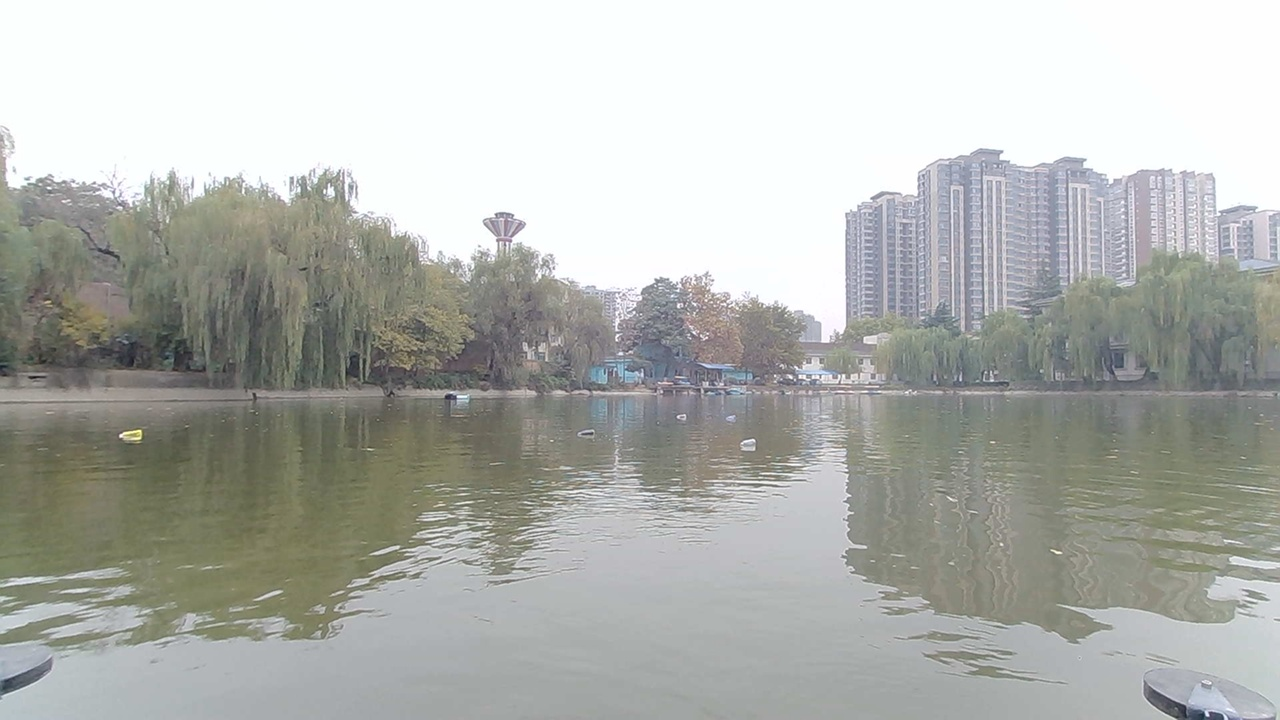bottle: (112, 419, 160, 451), (576, 420, 606, 442), (736, 434, 766, 455), (712, 410, 745, 427), (675, 405, 697, 424)
